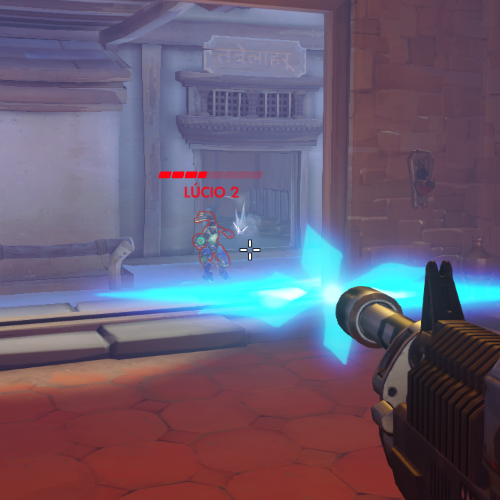hpbar: (158, 170, 264, 180)
